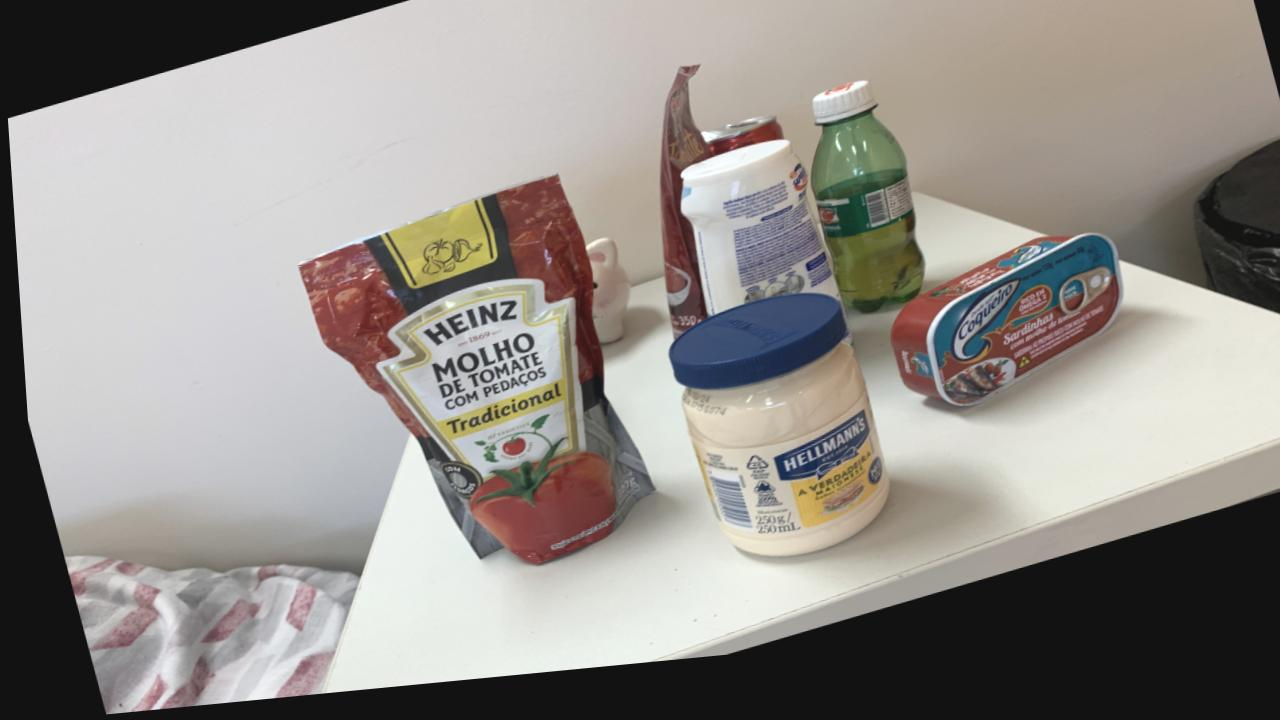Cleaner-Cleanup_Items: (676, 154, 833, 330)
Coke-Drinks: (698, 130, 780, 170)
Guarana-Drinks: (806, 97, 919, 330)
Mayonnaise-Pantry_Items: (662, 308, 882, 571)
Pig_Safe-Miscellaneous: (581, 249, 626, 355)
Tomato_Sauce-Pantry_Items: (296, 186, 644, 573), (655, 78, 708, 349)
Tuna_Can-Pantry_Items: (883, 254, 1118, 427)
